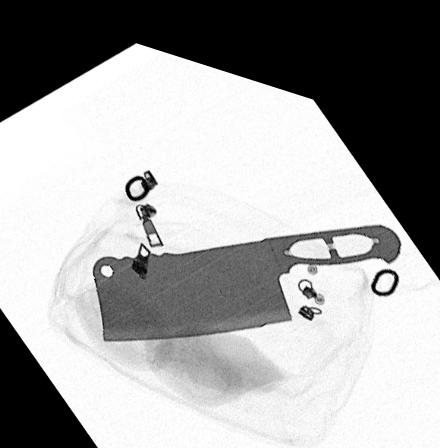Knife: (90, 198, 401, 335)
